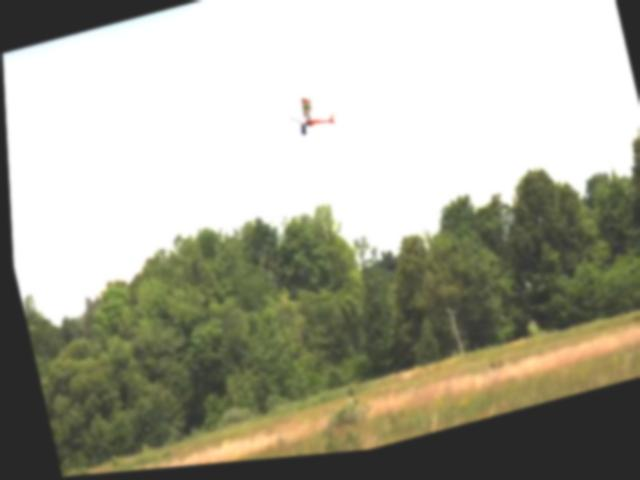uav: (277, 86, 343, 149)
